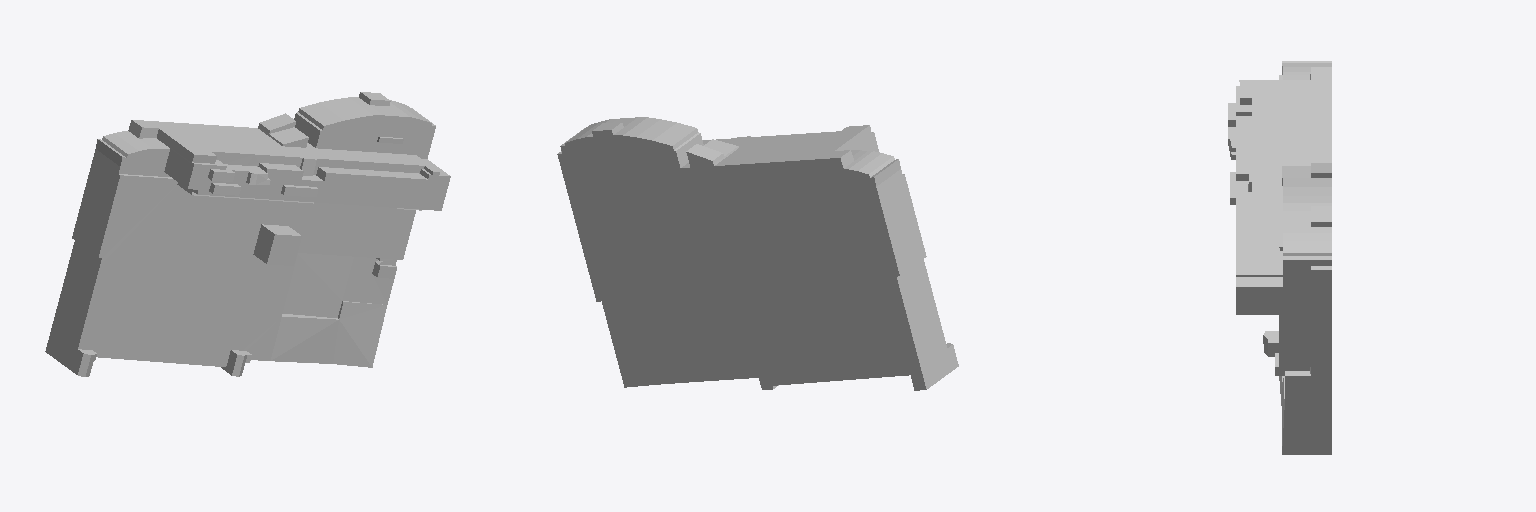
Rendered from talo_Build0000078.obj.
3 renders of one model, left to right at view 1: azimuth 30°, elevation 25°; view 2: azimuth 150°, elevation 25°; view 3: azimuth 270°, elevation 25°, orthographic.
Size of the model in its own units: 109 by 79.71 by 26.65.